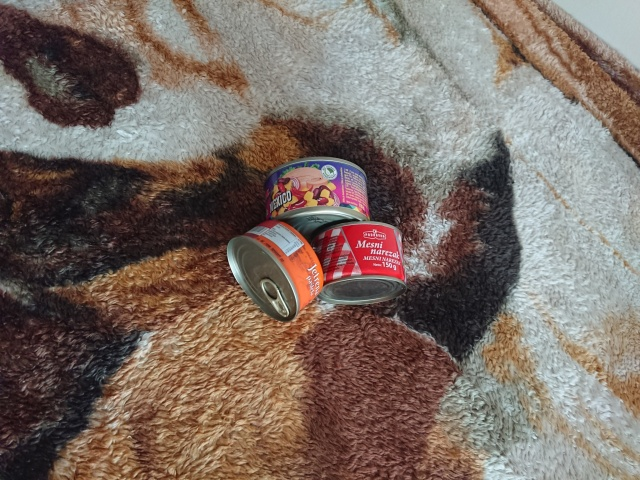Gavrilovic Pork Liver Pate 100g: (224, 217, 326, 325)
Giana Tuna Salad Mexico 185g: (261, 154, 373, 252)
Podravka Luncheon Meat 150g: (303, 216, 410, 309)
